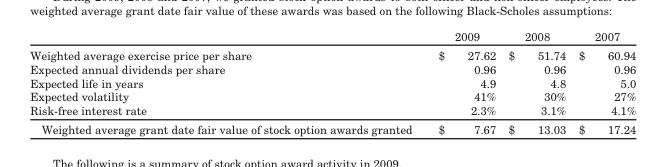table: (29, 28, 635, 135)
table column: (29, 28, 424, 135), (424, 28, 501, 135), (501, 28, 571, 135), (571, 28, 635, 135)
table column header: (29, 28, 635, 45)
table row: (29, 28, 635, 45), (29, 45, 635, 61), (29, 103, 635, 119), (29, 119, 635, 135), (29, 61, 635, 75), (29, 75, 635, 89), (29, 89, 635, 103)
